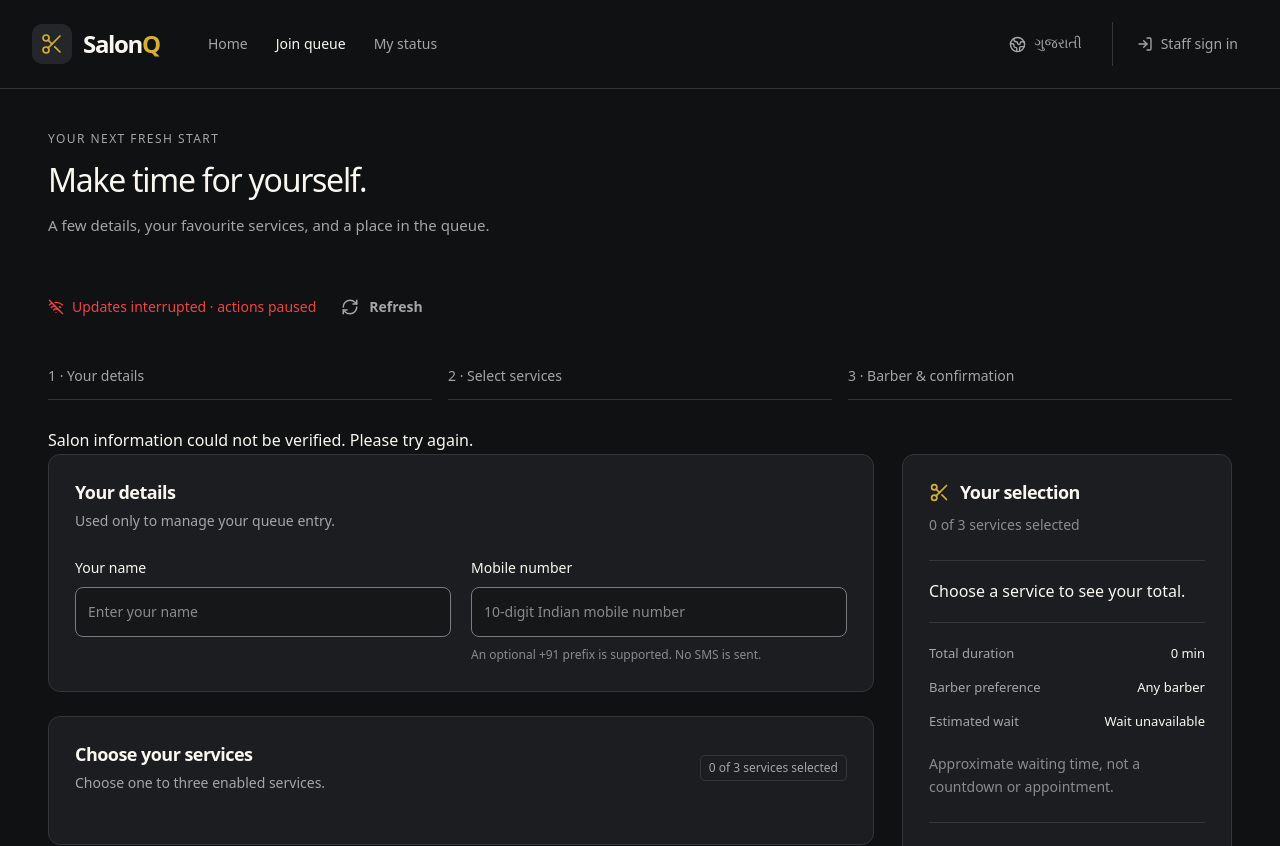
language and formatting foundation › switches visible copy and persists only the language preference
Click the button with aria-label "Change language" at (1045, 44), box [999,22,1092,66]
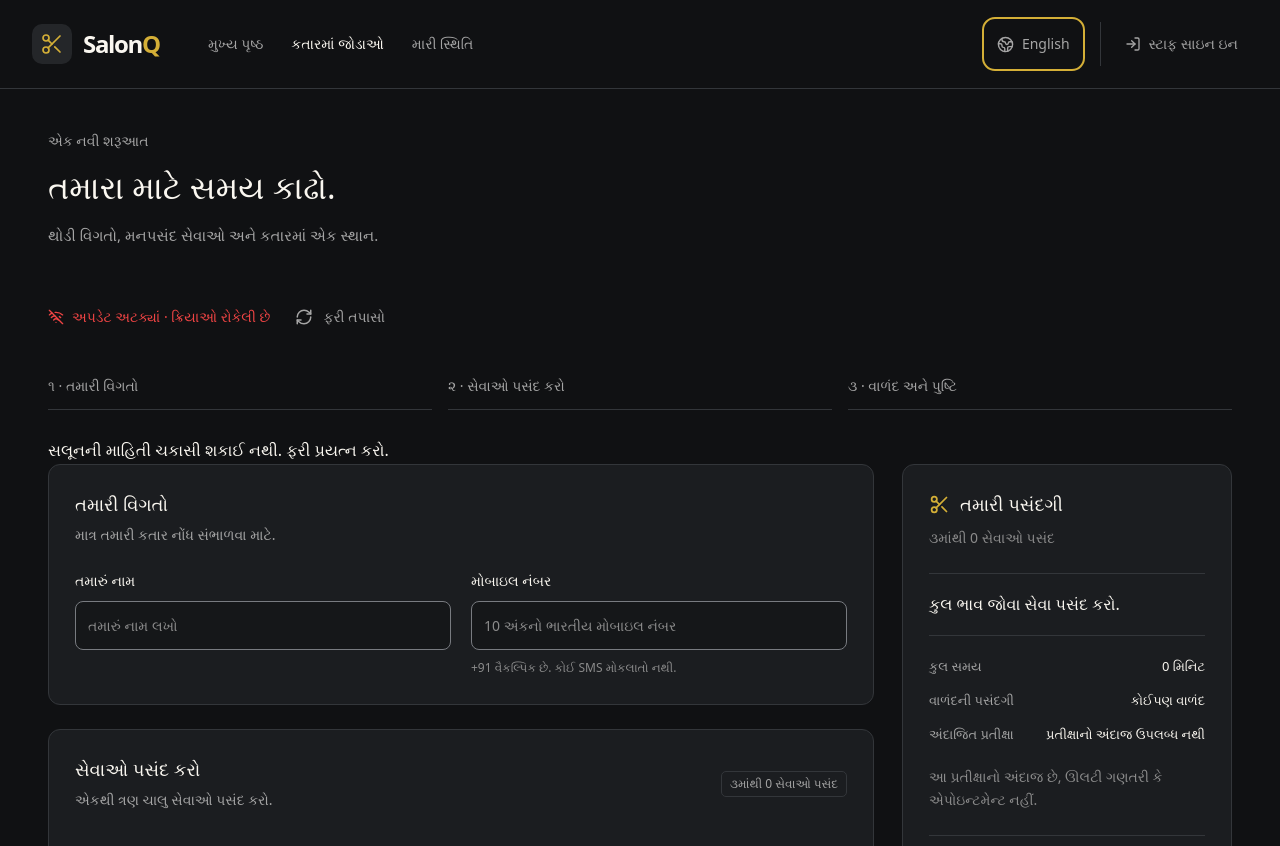
Result: the heading "તમારા માટે સમય કાઢો." is shown at [48,163,378,211]
